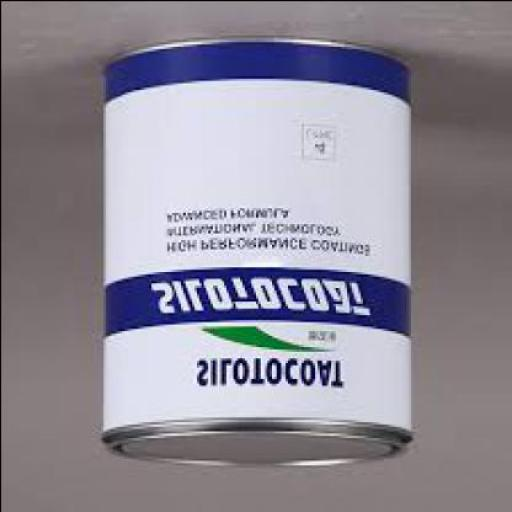metal: (97, 38, 410, 467)
